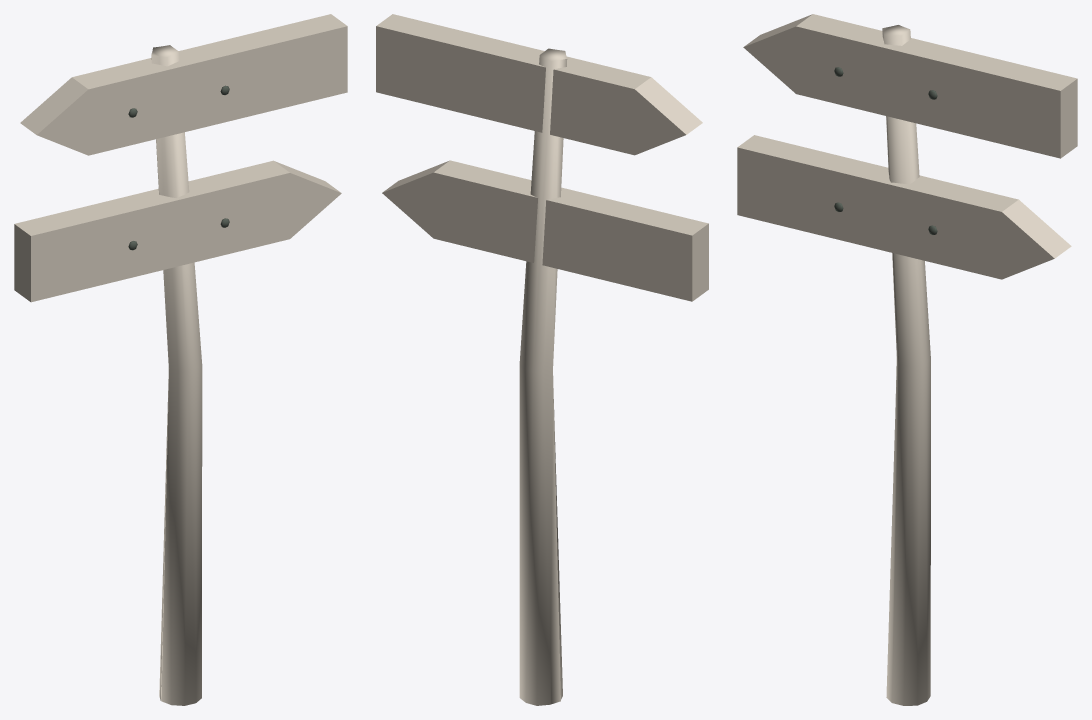
The model's file is SM_WLA_Signpost_B.fbx.
3 views of the same model, side by side, from view 1: azimuth 30°, elevation 25°; view 2: azimuth 150°, elevation 25°; view 3: azimuth 330°, elevation 25° (orthographic). The views are drawn at different scales.
Parts seen in each view (by area): view 1: SM_WLA_Signpost_B; view 2: SM_WLA_Signpost_B; view 3: SM_WLA_Signpost_B.
Part boxes in pixels (box(x1,y1,x2,y2)): SM_WLA_Signpost_B: box(14, 14, 347, 705); SM_WLA_Signpost_B: box(376, 14, 708, 705); SM_WLA_Signpost_B: box(737, 14, 1077, 705).
Size of what is drawn, in the model's own units: 0.1345 by 1.1 by 2.15.
